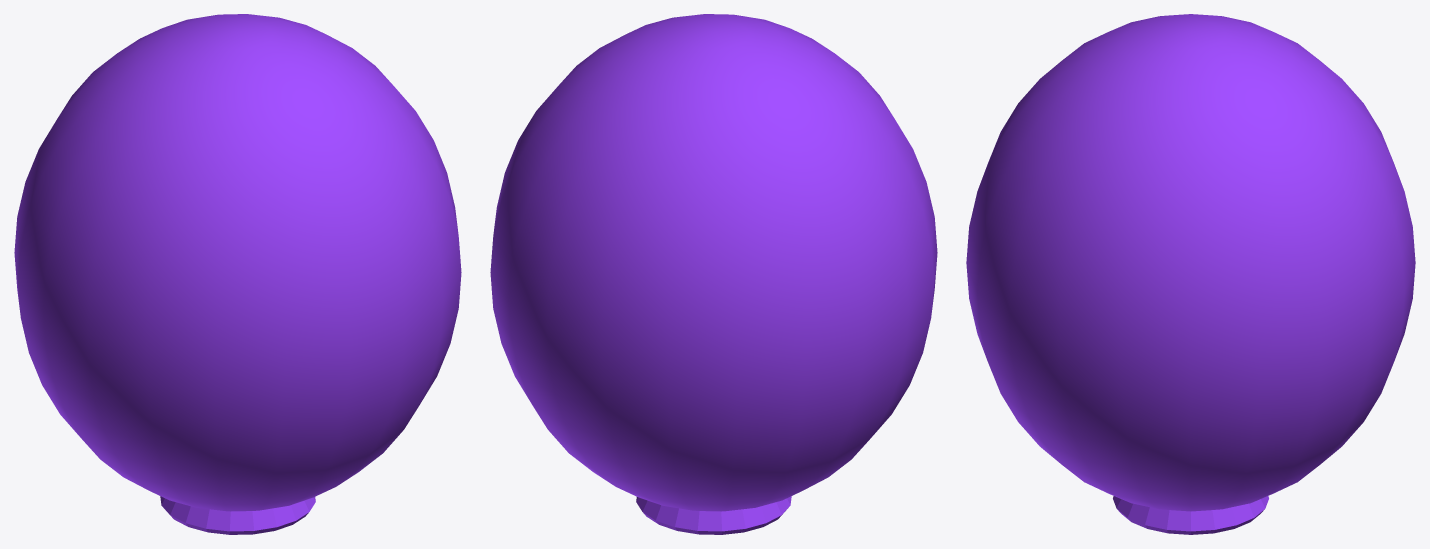
File: purpleBalloon.fbx
3 renders of one model, left to right at view 1: azimuth 30°, elevation 25°; view 2: azimuth 150°, elevation 25°; view 3: azimuth 270°, elevation 25°, orthographic.
Parts seen in each view (by area): view 1: pSphere1; view 2: pSphere1; view 3: pSphere1.
Boxes of the visible parts, box(x1,y1,x2,y2) form: pSphere1: box(14, 14, 461, 534); pSphere1: box(490, 14, 937, 534); pSphere1: box(966, 14, 1415, 534).
Size of the model in its own units: 3 by 3.56 by 3.
Materials: 1 (1 with a texture image).
